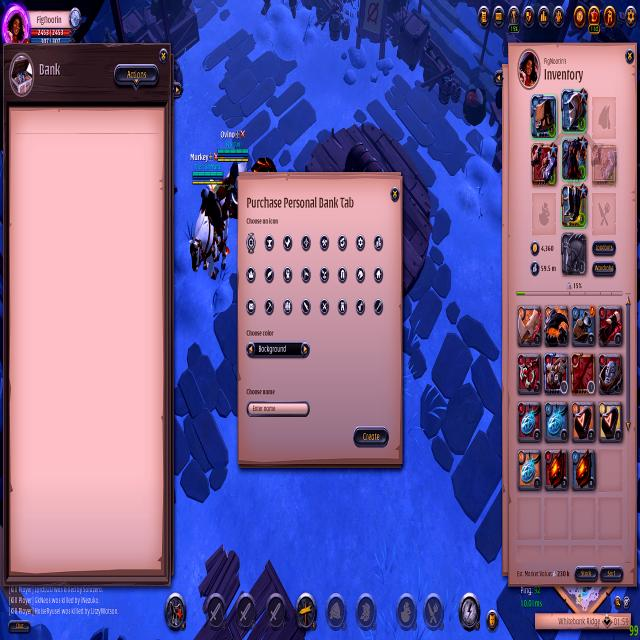red: (185, 146, 235, 287), (219, 122, 249, 225)
